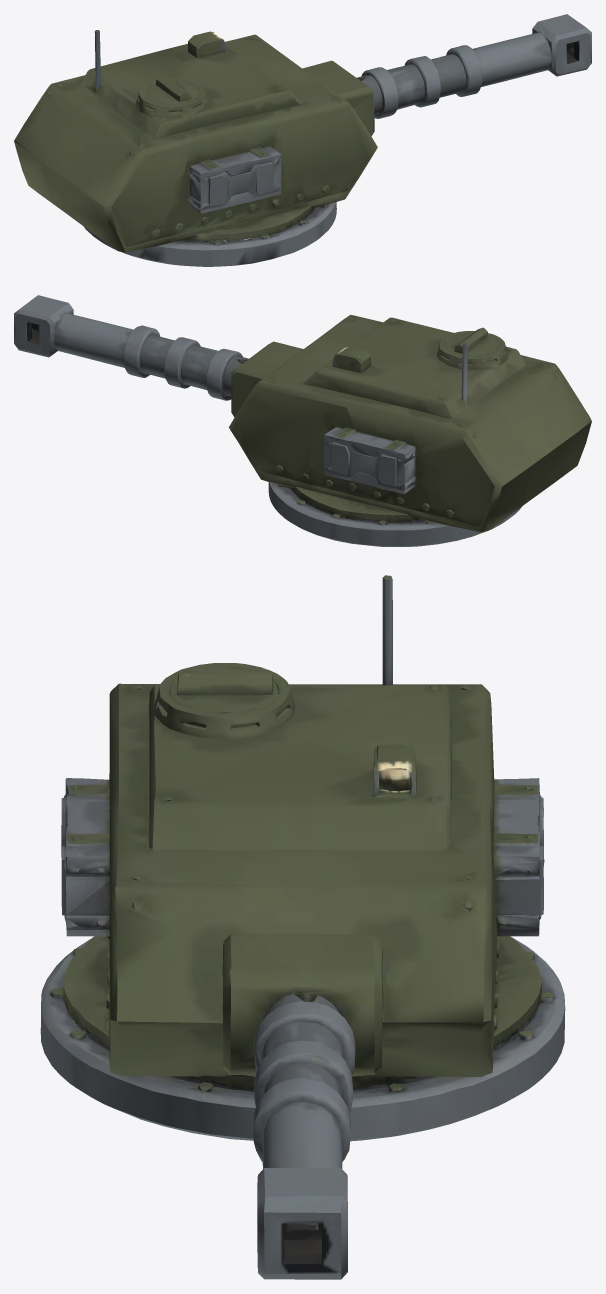
File: weapon-pulse-0-light.glb
3 renders of one model, top to bottom at view 1: azimuth 30°, elevation 25°; view 2: azimuth 150°, elevation 25°; view 3: azimuth 270°, elevation 25°, orthographic. The views are drawn at different scales.
Visible parts, largest first — view 1: weapon-pulse-0-light; view 2: weapon-pulse-0-light; view 3: weapon-pulse-0-light.
Part boxes in pixels (x1,y1,x2,y2): weapon-pulse-0-light: (14, 14, 591, 266); weapon-pulse-0-light: (14, 295, 591, 546); weapon-pulse-0-light: (40, 575, 565, 1279).
Bounding box in the file's own units: 2.63 × 0.902 × 1.14.
1 material, 1 textured.
